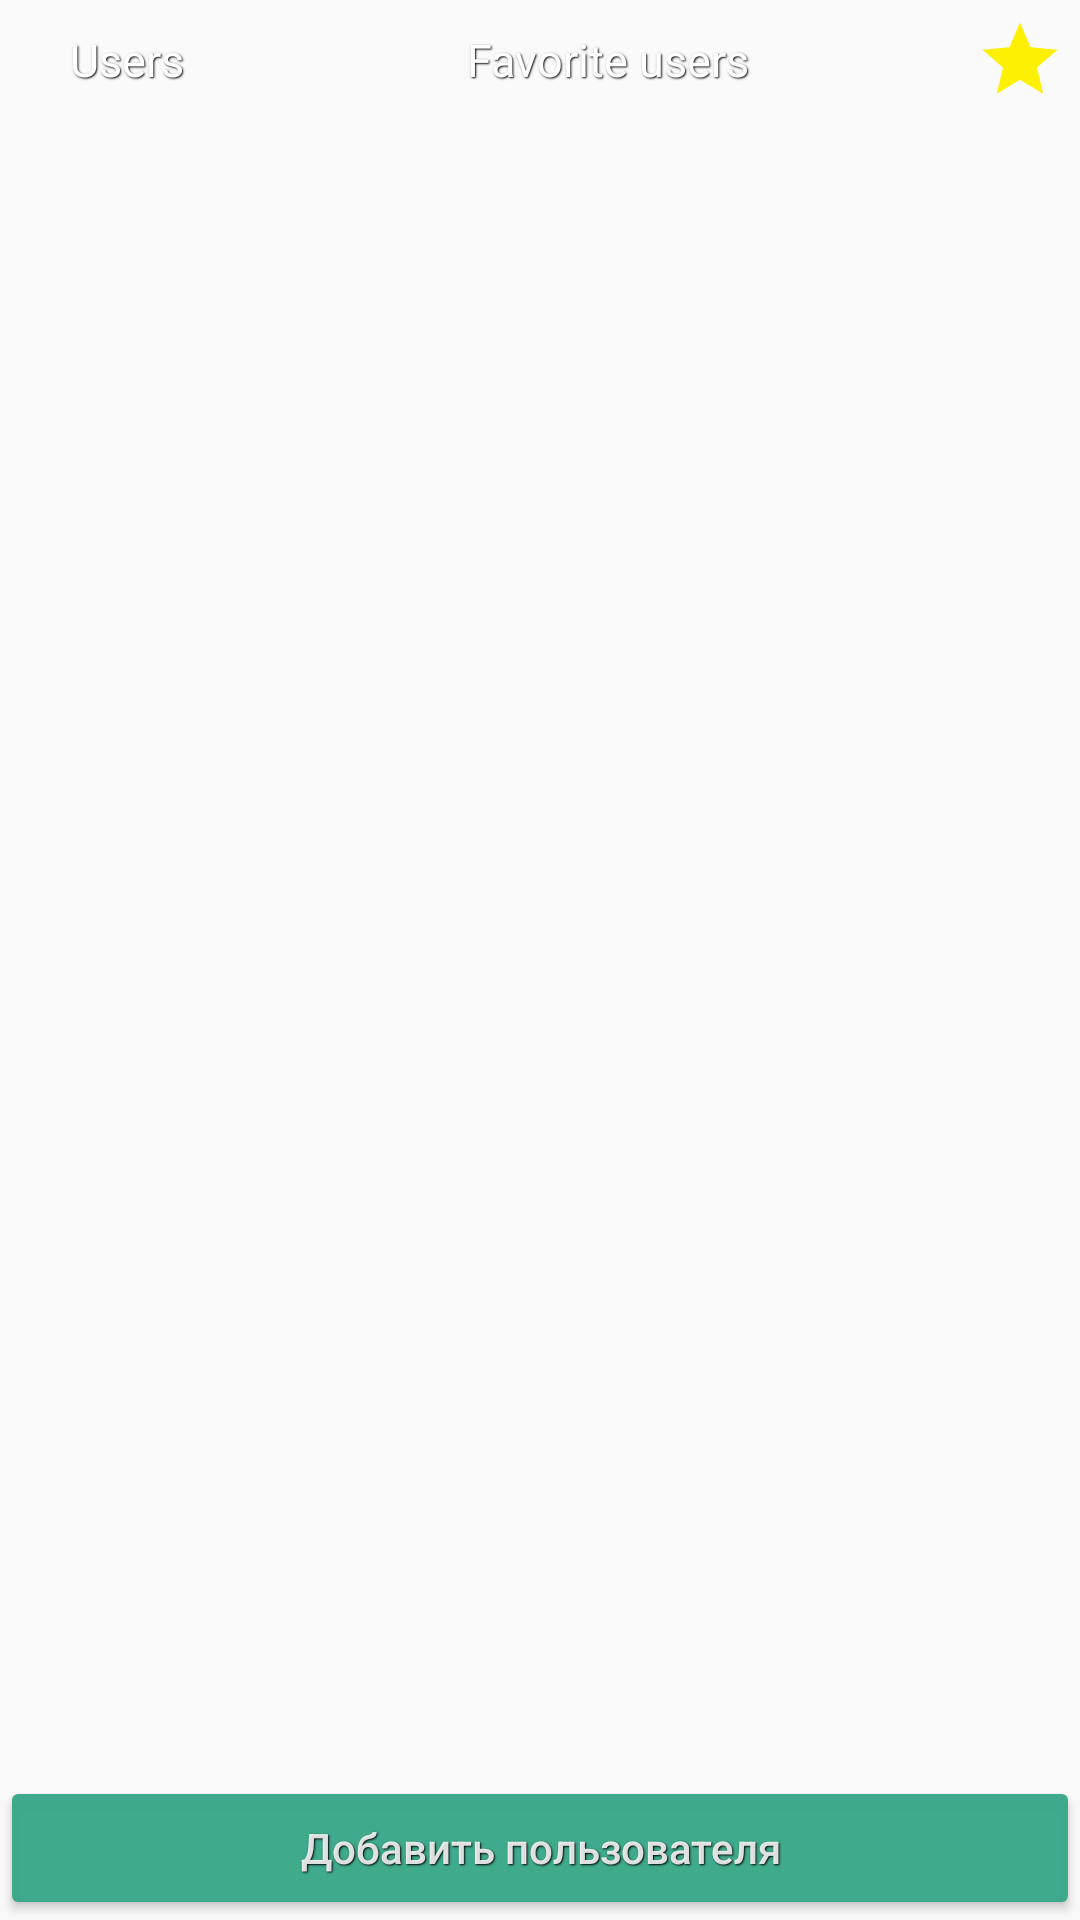

Icon bounding boxes for this 1080 × 1920 phone screenshot, format (x1, y1, x2, y2):
star fav: (983, 23, 1057, 94)
